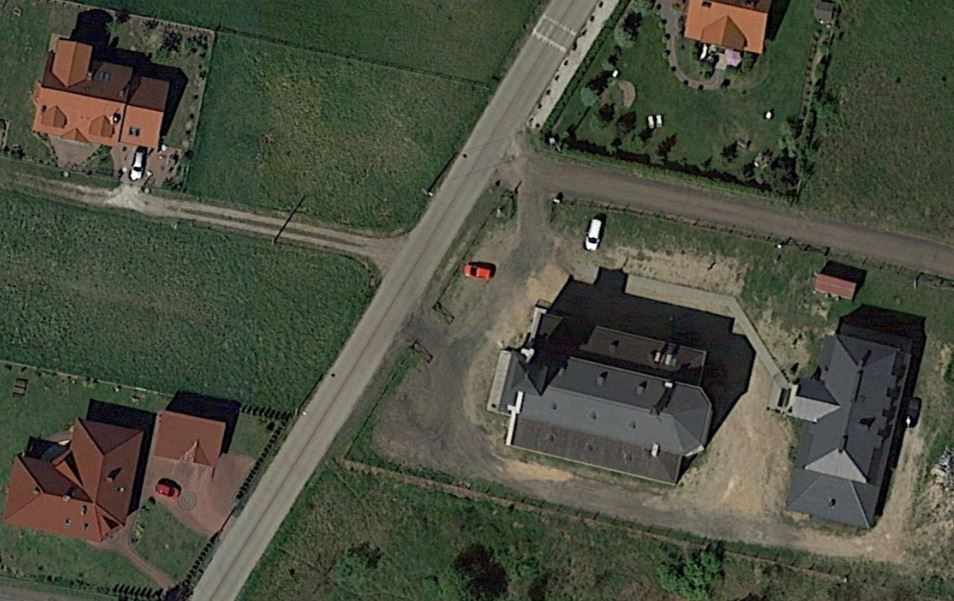church: (482, 300, 715, 488)
family house: (770, 306, 922, 529), (1, 407, 149, 548), (29, 30, 170, 150), (679, 1, 776, 62)
